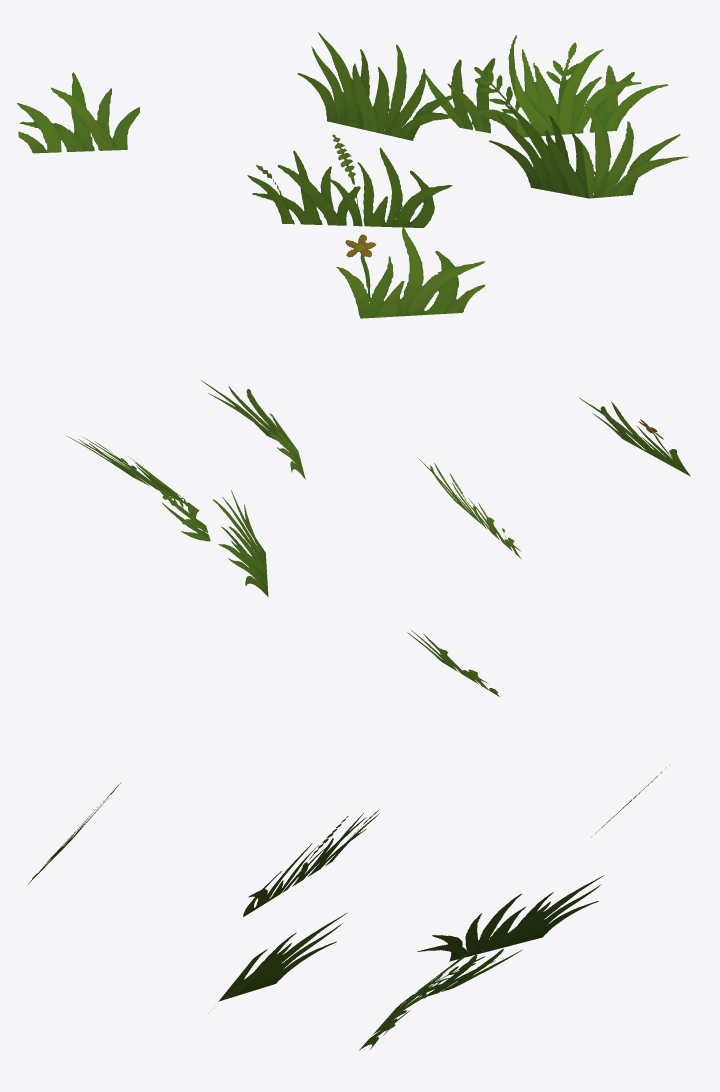
The model's file is grass_11.FBX.
3 renders of one model, top to bottom at view 1: azimuth 30°, elevation 25°; view 2: azimuth 150°, elevation 25°; view 3: azimuth 270°, elevation 25°, orthographic. The views are drawn at different scales.
Parts seen in each view (by area): view 1: 对象012; view 2: 对象012; view 3: 对象012.
Boxes of the visible parts, left/top/right/bottom form: 对象012: left=17, top=32, right=688, bottom=318; 对象012: left=65, top=380, right=690, bottom=696; 对象012: left=27, top=765, right=669, bottom=1050.
Bounding box in the file's own units: 2.07 × 0.2605 × 2.
Materials: 1 (1 with a texture image).
